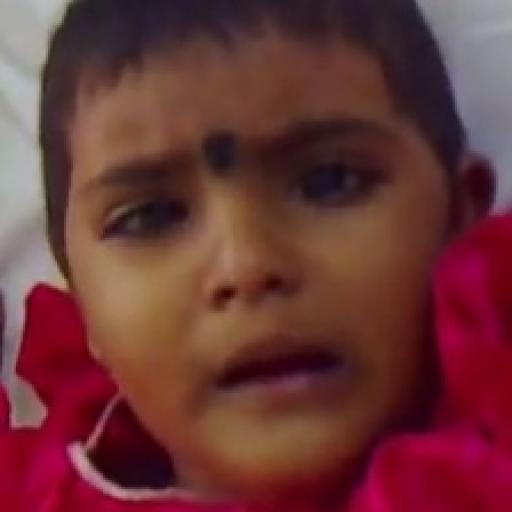Autism: (80, 40, 449, 502)
